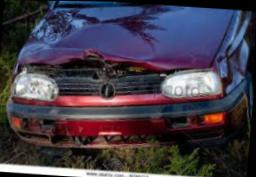Bonnet: (25, 37, 212, 74), (33, 5, 191, 46)
Bumper: (14, 61, 58, 85)
Fender: (213, 10, 256, 95)
